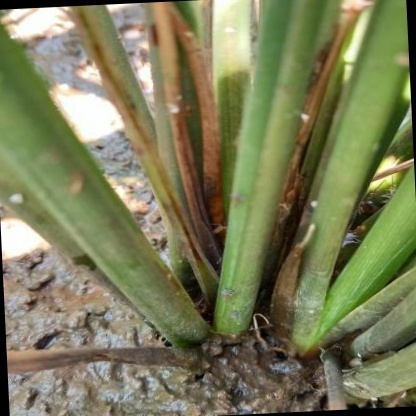Brown_hopper: (216, 285, 242, 306)
